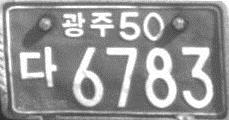0: (143, 11, 165, 43)
3: (179, 45, 214, 109)
5: (118, 10, 141, 41)
6: (71, 45, 104, 108)
7: (104, 45, 138, 109)
8: (143, 46, 178, 108)
광주_O: (60, 10, 114, 38)
다: (18, 45, 57, 88)
